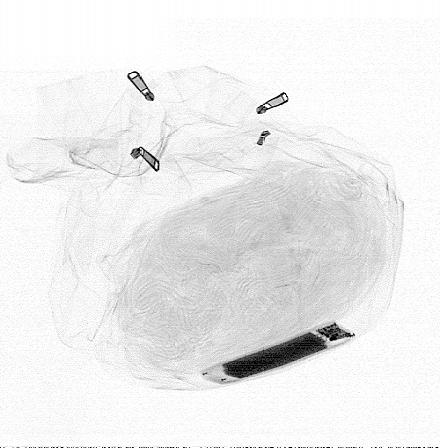Powerbank: (200, 318, 355, 387)
